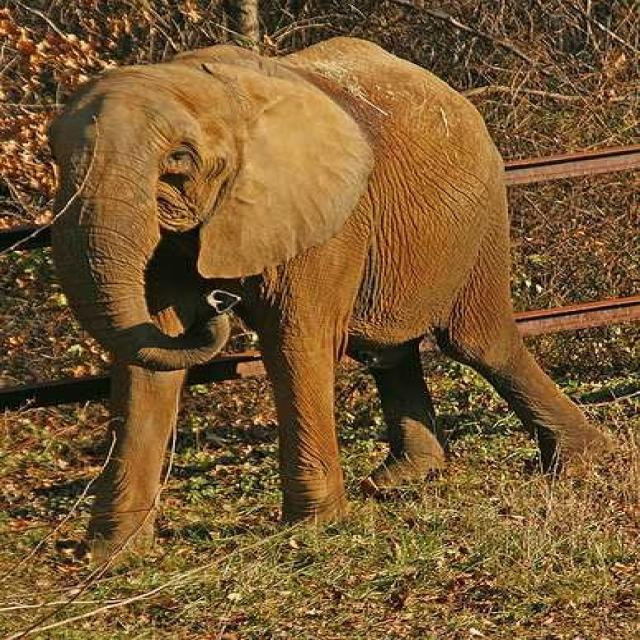Elephant: (43, 34, 615, 568)
